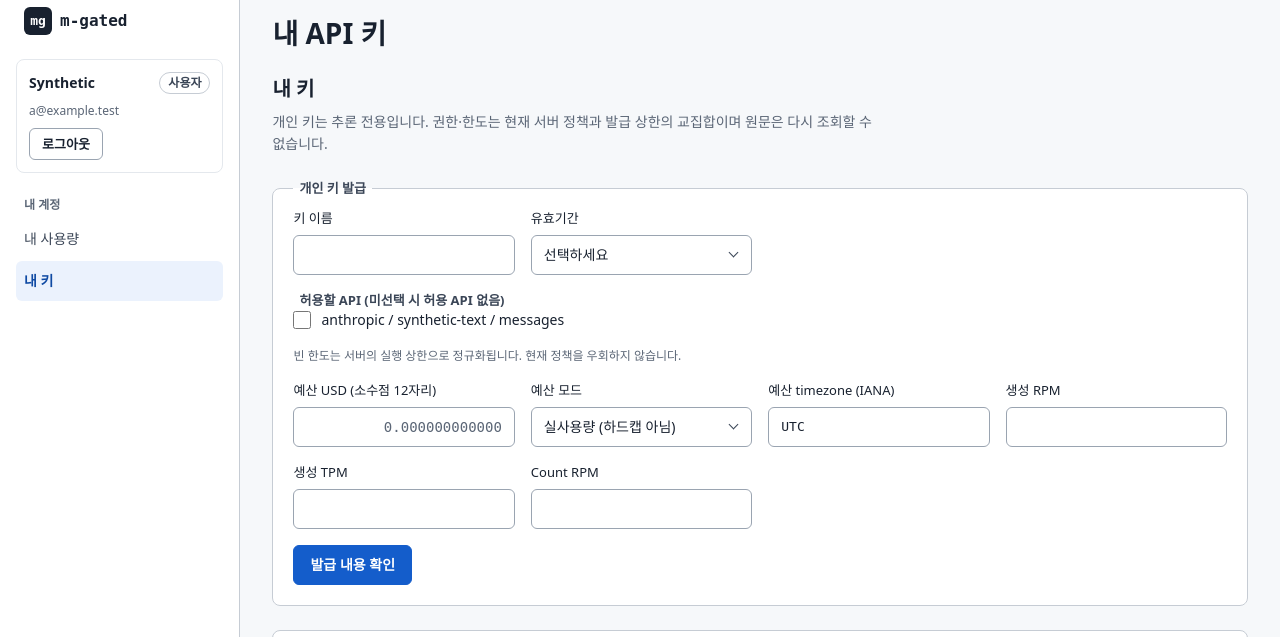
Test: issued_key_is_copied_only_when_the_copy_button_is_pressed
Expected: the heading "내 키" is shown, [272,75,314,102]
Type "복사 키" into the field labelled "키 이름" at (404, 255), box [294,235,515,275]
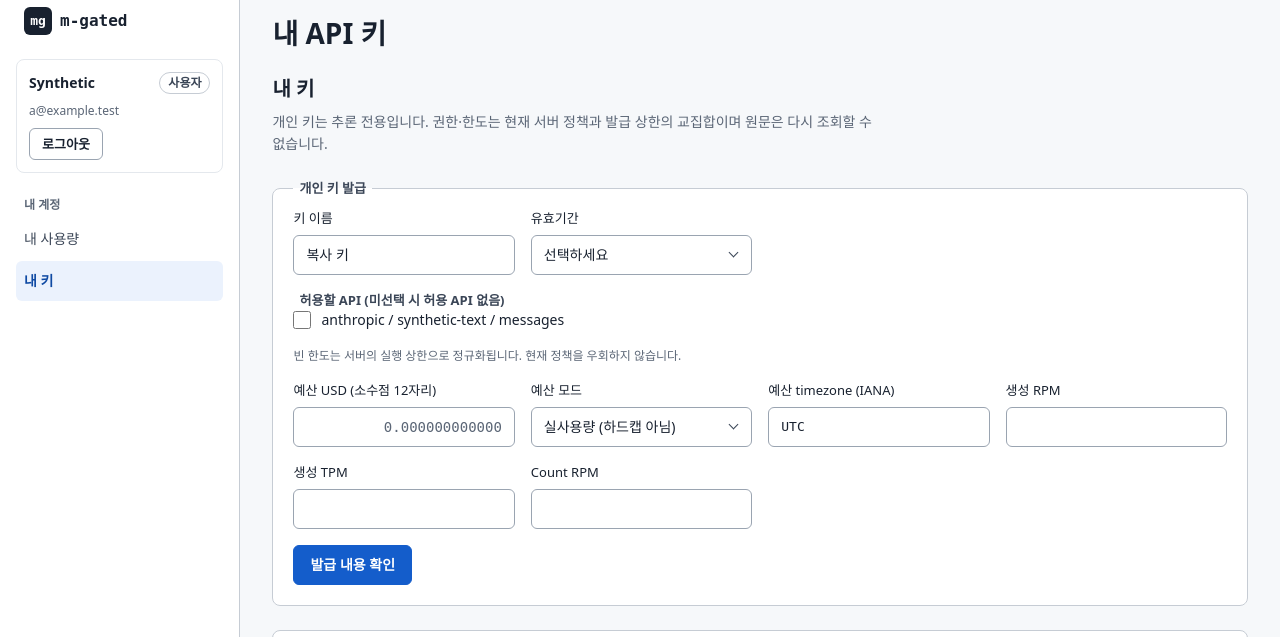
Select "무제한 (만료 없음, 회수·정지는 적용)" in the dropdown labelled "유효기간" at (642, 255), box [531,235,752,275]
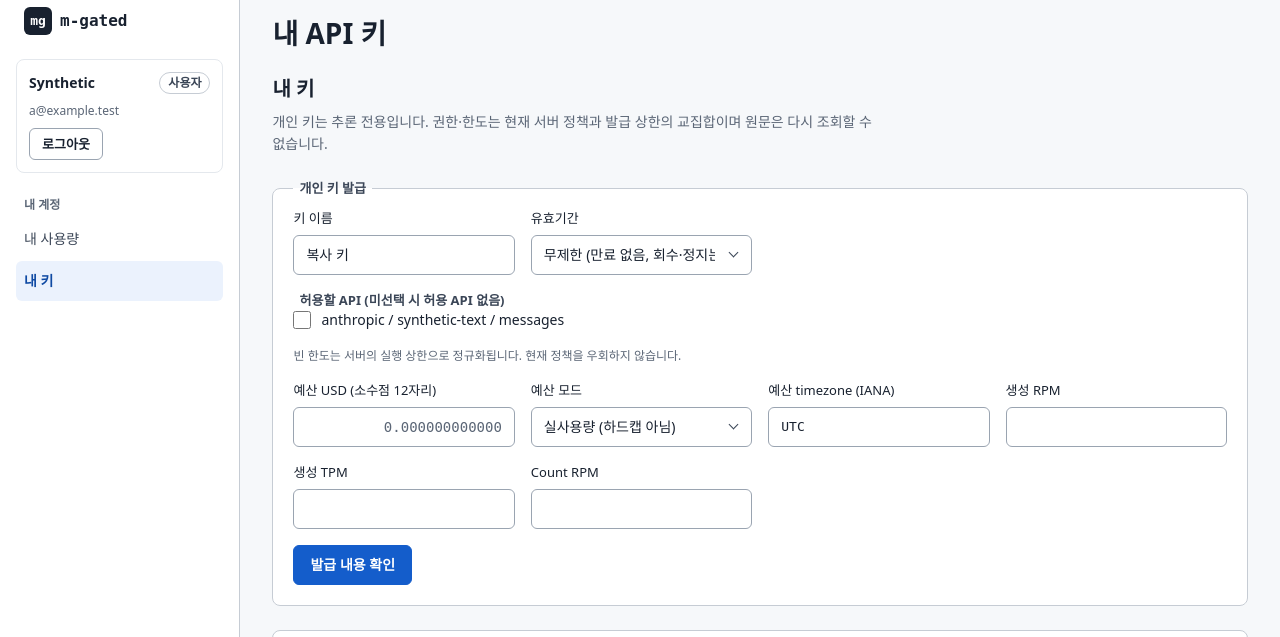
Submit the form "개인 키 발급", box [272,179,1248,606]
(page scrolled)
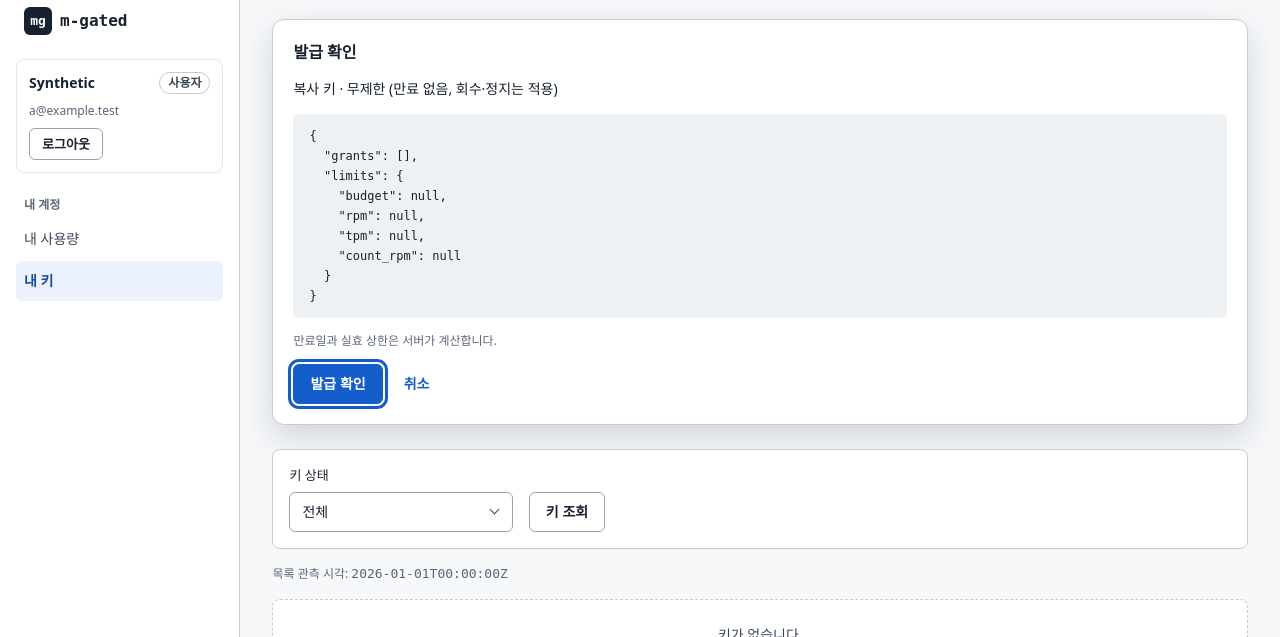
Click the button "발급 확인" at (338, 384), box [294,364,383,404]
(page scrolled)
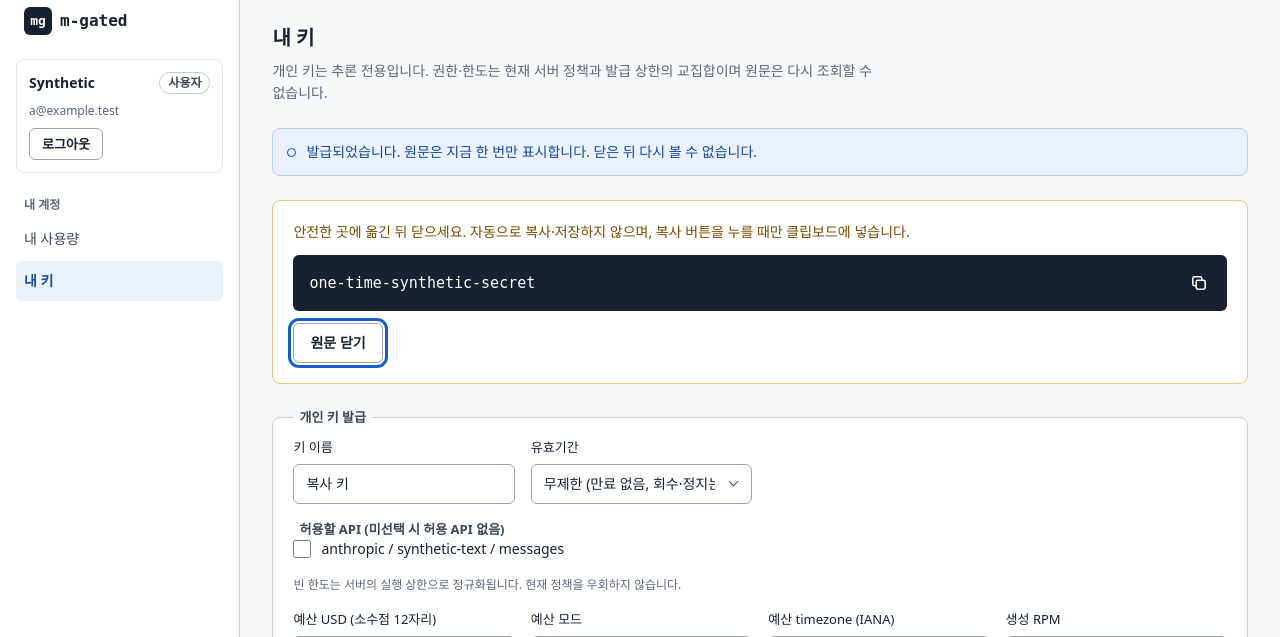
Now the text "one-time-synthetic-secret" is shown, box [294,255,1227,311]
Click the button named "원문 복사" at (1199, 283), box [1179,263,1219,303]
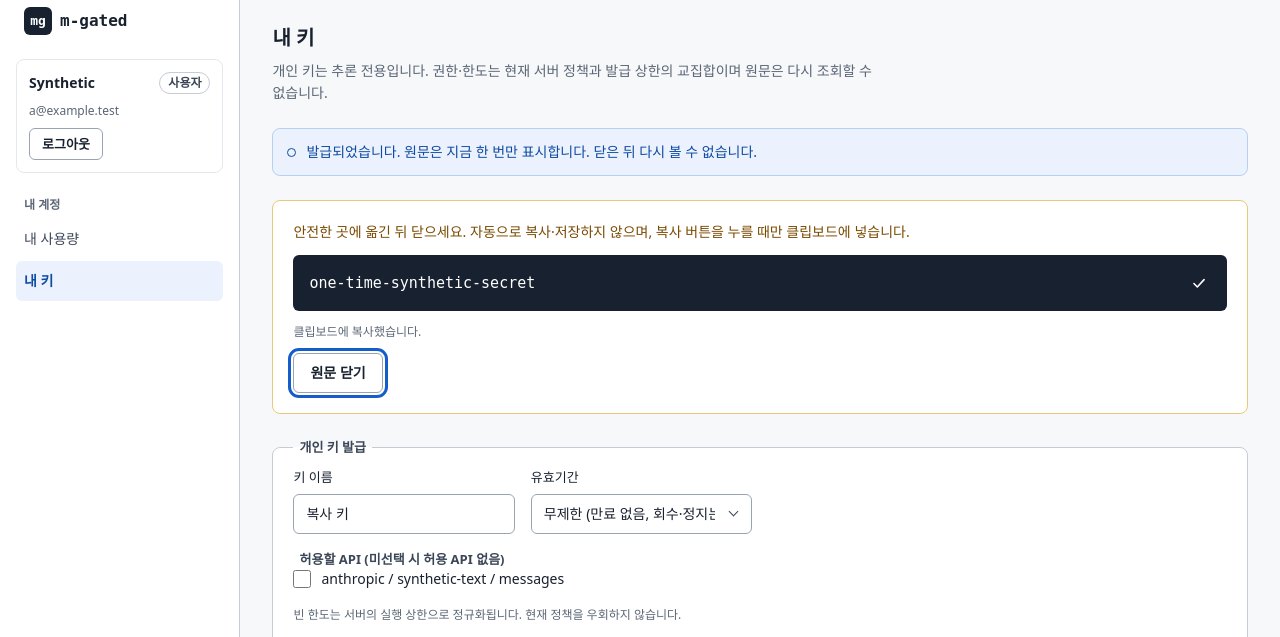
Now the text "클립보드에 복사했습니다." is shown, box [294,323,421,340]
Click the button "원문 닫기" at (338, 373), box [294,353,383,393]
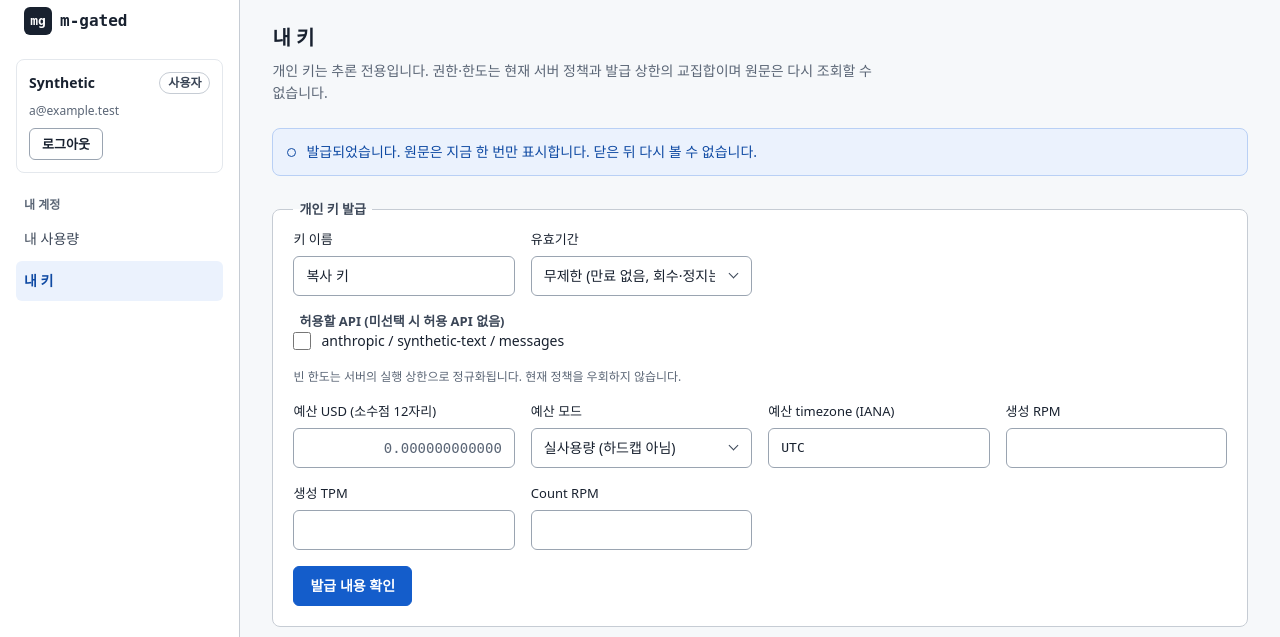
Now the text "one-time-synthetic-secret" is gone
